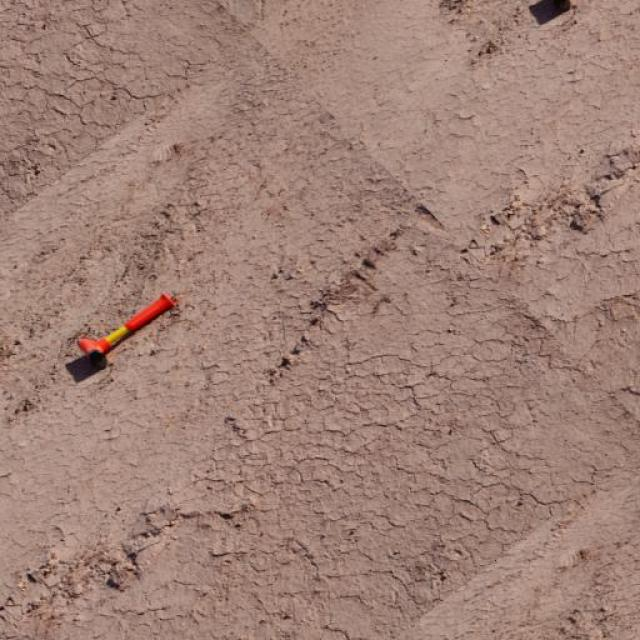mallet: (75, 290, 177, 368)
